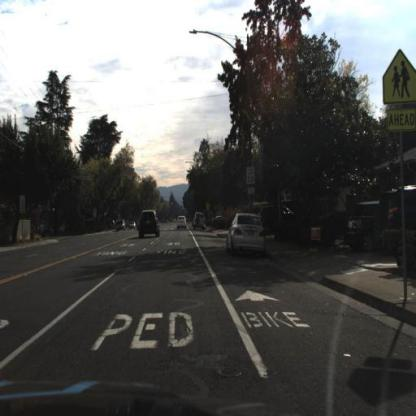car: (347, 198, 400, 256), (377, 186, 416, 260), (224, 211, 270, 257), (137, 206, 163, 241), (137, 208, 162, 242), (191, 209, 208, 236), (176, 212, 190, 233), (115, 217, 128, 234)
